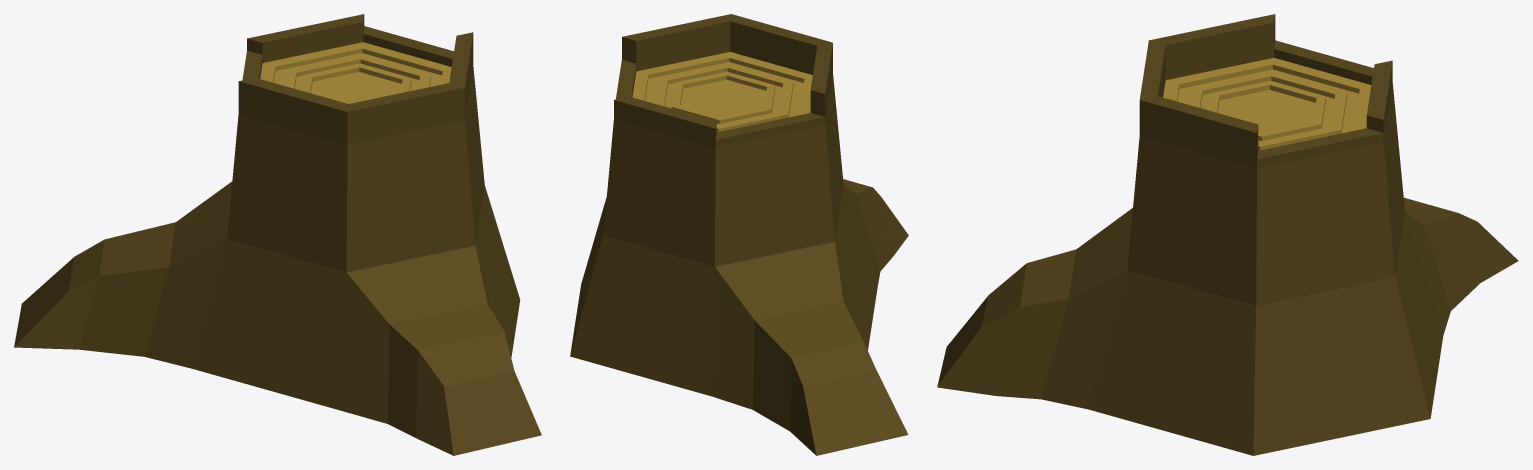
File: CepoDemadeira.fbx
The picture shows the model from 3 angles, left to right: view 1: azimuth 30°, elevation 25°; view 2: azimuth 150°, elevation 25°; view 3: azimuth 270°, elevation 25°; orthographic projection. The views are drawn at different scales.
Visible parts, largest first — view 1: Circle; view 2: Circle; view 3: Circle.
Boxes of the visible parts, left/top/right/bottom form: Circle: left=14, top=14, right=541, bottom=455; Circle: left=570, top=14, right=908, bottom=455; Circle: left=937, top=14, right=1518, bottom=455.
Size of the model in its own units: 270 by 168 by 294.
